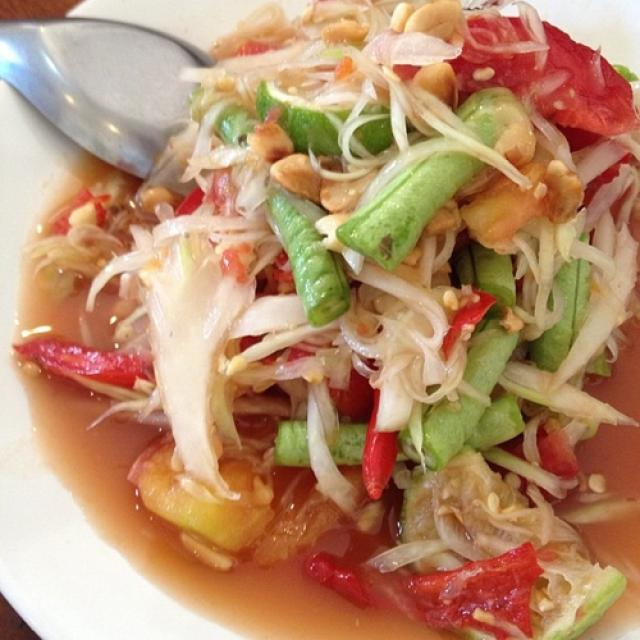蔬菜料理: (43, 23, 620, 599)
